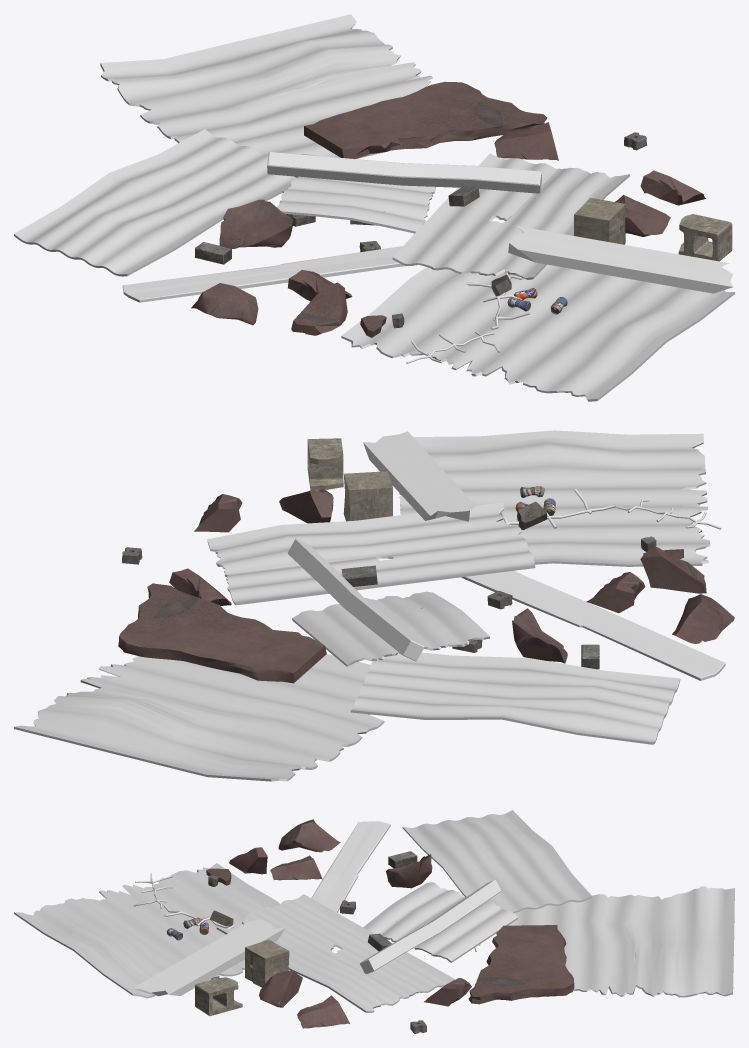
Rendered from RubbleC.fbx.
The picture shows the model from 3 angles, top to bottom: view 1: azimuth 30°, elevation 25°; view 2: azimuth 150°, elevation 25°; view 3: azimuth 270°, elevation 25°; orthographic projection. The views are drawn at different scales.
Parts seen in each view (by area): view 1: RubbleC; view 2: RubbleC; view 3: RubbleC.
Part boxes in pixels (x1,y1,x2,y2): RubbleC: (14, 14, 734, 401); RubbleC: (14, 430, 734, 781); RubbleC: (14, 810, 734, 1033).
Bounding box in the file's own units: 4.07 × 0.267 × 5.64.
